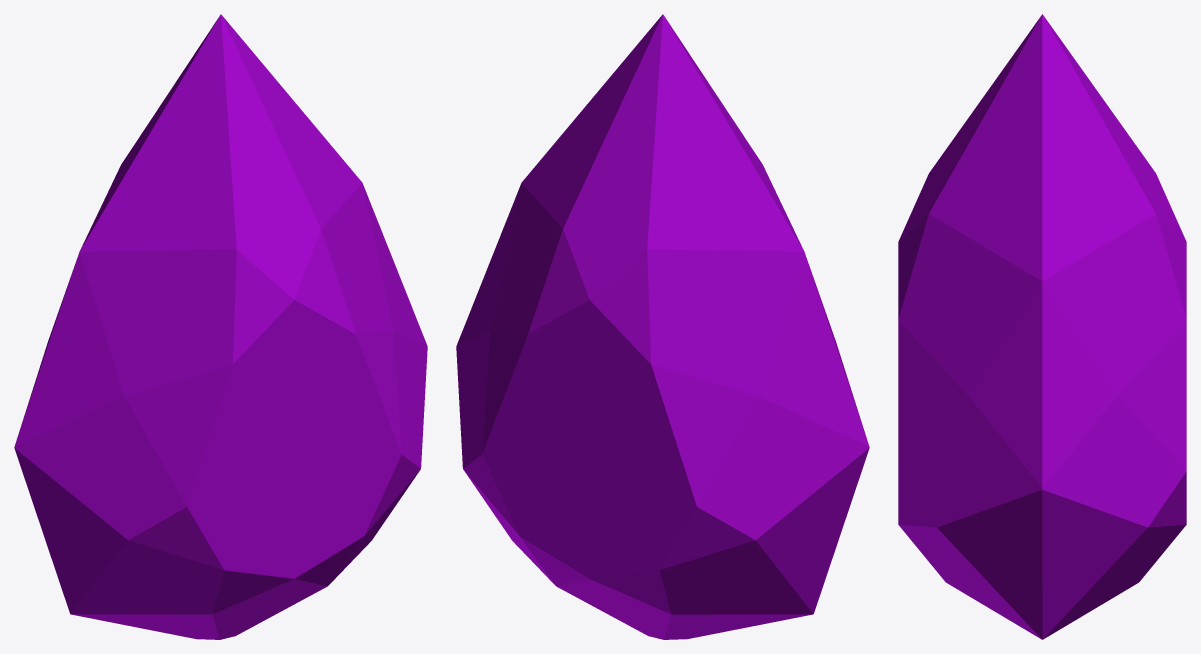
The model's file is purple_gem.glb.
The picture shows the model from 3 angles, left to right: view 1: azimuth 30°, elevation 25°; view 2: azimuth 150°, elevation 25°; view 3: azimuth 270°, elevation 25°; orthographic projection.
Parts seen in each view (by area): view 1: Object_2; view 2: Object_2; view 3: Object_2.
Boxes of the visible parts, box(x1,y1,x2,y2) form: Object_2: box(14, 14, 427, 639); Object_2: box(456, 14, 869, 639); Object_2: box(898, 14, 1186, 639).
Size of the model in its own units: 1.39 by 1.99 by 0.854.
